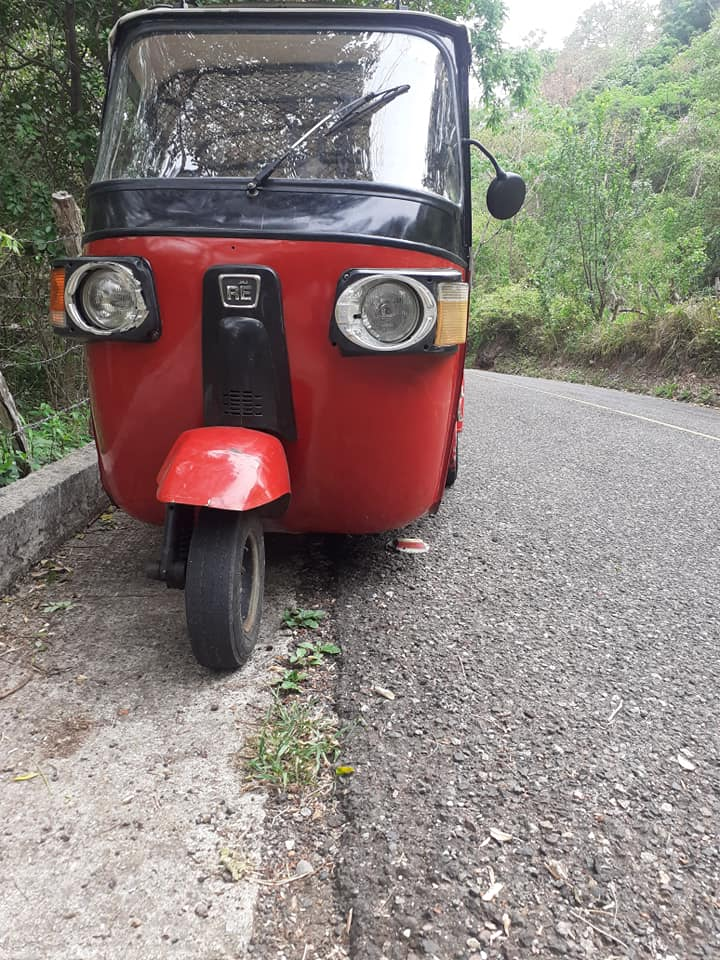mototaxi: (56, 9, 529, 671)
